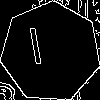I: (26, 27, 47, 75)
